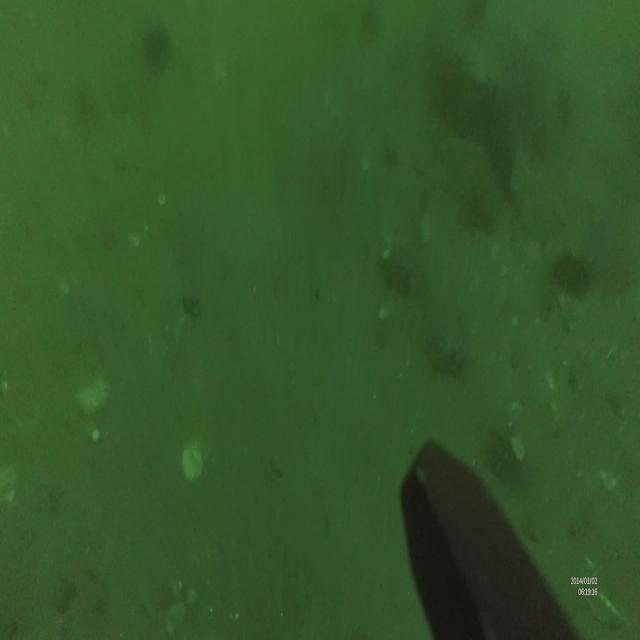echinus: (550, 244, 590, 298), (140, 20, 176, 72)
